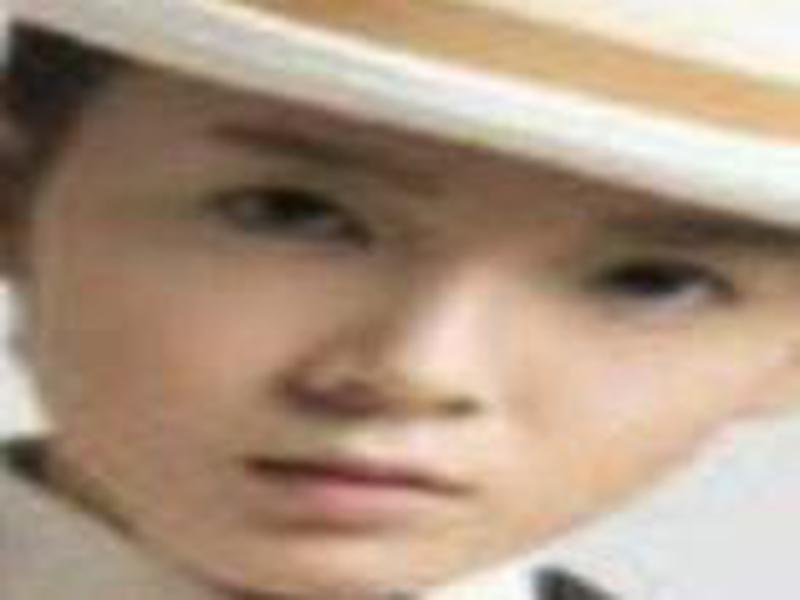without_mask: (29, 50, 793, 599)
